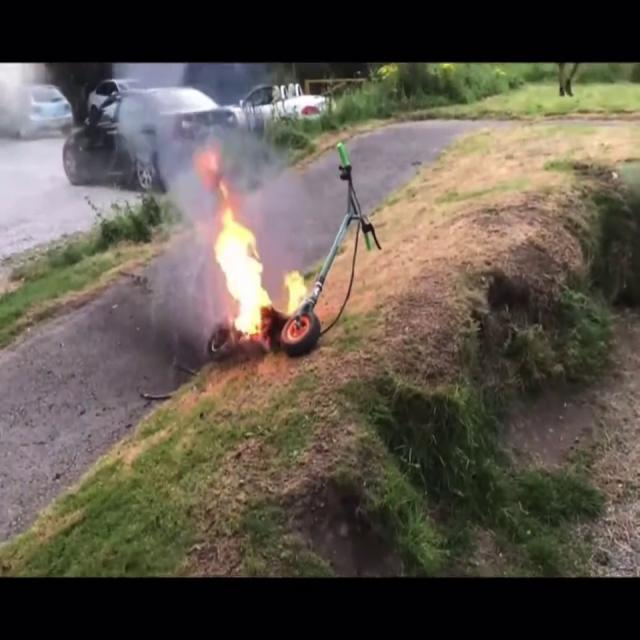Fire: (210, 202, 312, 342)
Smoke: (116, 64, 264, 212), (144, 200, 236, 352)
